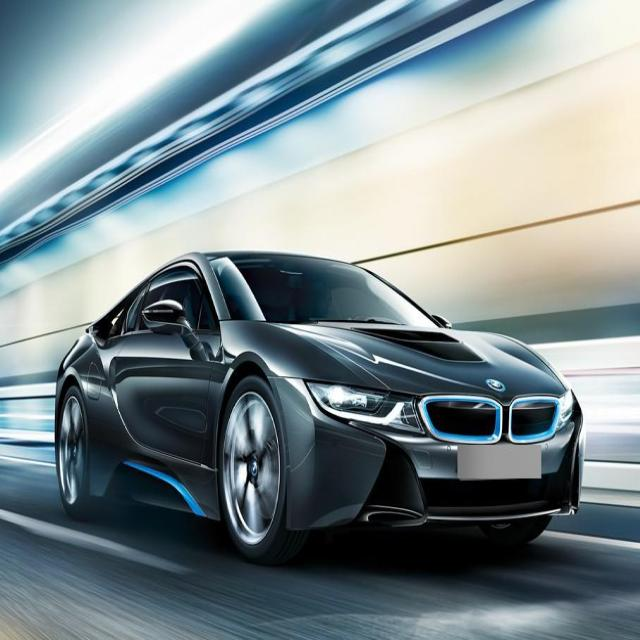front_bumper: (283, 392, 586, 534)
front_glass: (208, 250, 448, 336)
front_right_side_door: (101, 259, 222, 518)
front_right_side_light: (302, 374, 424, 440)
front_right_side_mirror: (143, 296, 196, 340)
wheel: (225, 385, 280, 553), (58, 384, 94, 512)
